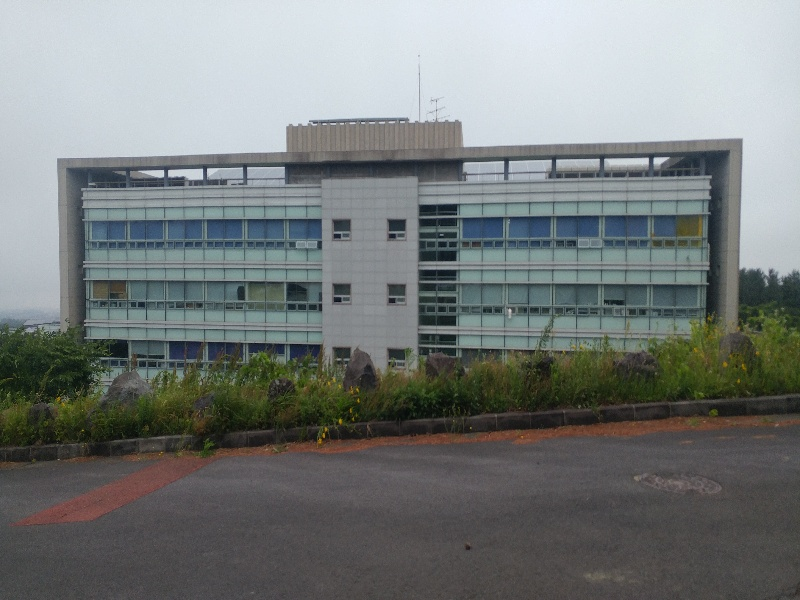College of Marine Science: (50, 105, 737, 357)
